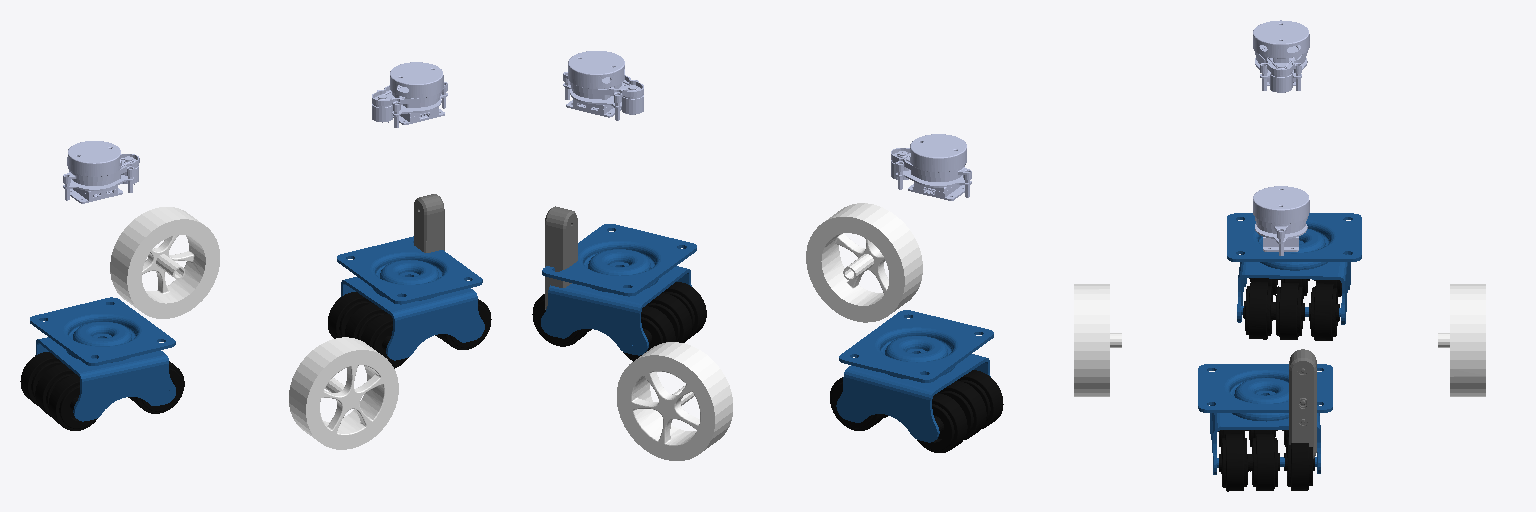
URDF robot description (issac_seven):
<?xml version="1.0" encoding="utf-8"?>
<!-- This URDF was automatically created by SolidWorks to URDF Exporter! Originally created by Stephen Brawner (brawner@gmail.com) 
     Commit Version: 1.6.0-4-g7f85cfe  Build Version: 1.6.7995.38578
     For more information, please see http://wiki.ros.org/sw_urdf_exporter -->
<robot
  name="issac_seven">

  <link name="base_footprint_link"/>

  <joint name="base_footprint_joint" type="fixed">
  <parent link="base_footprint_link"/>
  <child link="base_link"/>
  <origin xyz="0 0 0.05" rpy="0 0 0"/>
  </joint>

  <link
    name="base_link">
    <inertial>
      <origin
        xyz="-0.0248479796881225 -0.0112943222529918 0.0362638786365603"
        rpy="0 0 0" />
      <mass
        value="16.0457708997092" />
      <inertia
        ixx="0.14021509634615"
        ixy="0.000535721336349477"
        ixz="-0.000805462177597089"
        iyy="0.199659229591452"
        iyz="9.84458791671503E-05"
        izz="0.319238171634791" />
    </inertial>
    <visual>
      <origin
        xyz="0 0 0"
        rpy="0 0 0" />
      <geometry>
        <mesh
          filename="package://bugger/meshes/visual/base_link.STL" />
      </geometry>
      <material
        name="">
        <color
          rgba="0.792156862745098 0.819607843137255 0.933333333333333 1" />
      </material>
    </visual>
    <collision>
      <origin
        xyz="0 0 0"
        rpy="0 0 0" />
      <geometry>
        <box size="0.45 0.35 0.12"/>
      </geometry>
    </collision>
  </link>
  <link
    name="left_wheel">
    <inertial>
      <origin
        xyz="-1.45521954928451E-05 0.000688108128103382 1.70906873010468E-05"
        rpy="0 0 0" />
      <mass
        value="0.266150143776577" />
      <inertia
        ixx="0.000363355045282095"
        ixy="4.8306260702547E-08"
        ixz="-6.22191042124078E-08"
        iyy="0.000659372293190558"
        iyz="-5.62012125467068E-08"
        izz="0.000363910990808926" />
    </inertial>
    <visual>
      <origin
        xyz="0 0 0"
        rpy="0 0 0" />
      <geometry>
        <mesh
          filename="package://bugger/meshes/visual/left_wheel.STL" />
      </geometry>
      <material
        name="">
        <color
          rgba="1 1 1 0.35" />
      </material>
    </visual>
    <collision>
      <origin
        xyz="0 0 0"
        rpy="0 0 0" />
      <geometry>
        <cylinder radius="0.06" length="0.03"/>
      </geometry>
    </collision>
  </link>
  <joint
    name="leftwheel"
    type="continuous">
    <origin
      xyz="-0.0022134 0.19925 -0.035"
      rpy="0 0 0" />
    <parent
      link="base_link" />
    <child
      link="left_wheel" />
    <axis
      xyz="0 1 0" />
  </joint>
  <link
    name="right_wheel">
    <inertial>
      <origin
        xyz="1.41832273394815E-05 -0.000688994267547649 -1.84245151813034E-05"
        rpy="0 0 0" />
      <mass
        value="0.26616914297798" />
      <inertia
        ixx="0.000363847207290197"
        ixy="4.2514951574031E-08"
        ixz="-1.8778456164125E-07"
        iyy="0.000659372293190558"
        iyz="-6.07004942926805E-08"
        izz="0.000363418828800825" />
    </inertial>
    <visual>
      <origin
        xyz="0 0 0"
        rpy="0 0 0" />
      <geometry>
        <mesh
          filename="package://bugger/meshes/visual/right_wheel.STL" />
      </geometry>
      <material
        name="">
        <color
          rgba="1 1 1 0.35" />
      </material>
    </visual>
    <collision>
      <origin
        xyz="0 0 0"
        rpy="0 0 0" />
      <geometry>
        <cylinder radius="0.06" length="0.03"/>
      </geometry>
    </collision>
  </link>
  <joint
    name="rightwheel"
    type="continuous">
    <origin
      xyz="-0.0022134 -0.19925 -0.035"
      rpy="0 0 0" />
    <parent
      link="base_link" />
    <child
      link="right_wheel" />
    <axis
      xyz="0 1 0" />
  </joint>
  <link
    name="front_castor">
    <inertial>
      <origin
        xyz="-1.47230971914158E-06 -1.31477673193103E-09 -0.0075492724826719"
        rpy="0 0 0" />
      <mass
        value="0.188433066543013" />
      <inertia
        ixx="0.000325365378783494"
        ixy="-1.03442588377839E-06"
        ixz="-7.8020030948336E-09"
        iyy="0.00019979281882914"
        iyz="1.24832253355552E-18"
        izz="0.000468525846318118" />
    </inertial>
    <visual>
      <origin
        xyz="0 0 0"
        rpy="0 0 0" />
      <geometry>
        <mesh
          filename="package://bugger/meshes/visual/front_castor.STL" />
      </geometry>
      <material
        name="">
        <color
          rgba="0.168627450980392 0.4 0.619607843137255 1" />
      </material>
    </visual>
    <collision>
      <origin
        xyz="0 0 0"
        rpy="0 0 0" />
      <geometry>
        <mesh
          filename="package://bugger/meshes/visual/front_castor.STL" />
      </geometry>
    </collision>
  </link>
  <joint
    name="frontcastor"
    type="continuous">
    <origin
      xyz="0.18875 -0.01515 -0.0171"
      rpy="0 0 0.029377" />
    <parent
      link="base_link" />
    <child
      link="front_castor" />
    <axis
      xyz="0 0 -1" />
  </joint>
  <link
    name="ff_castor">
    <inertial>
      <origin
        xyz="-2.01924639933182E-05 -0.000750000002212592 -0.00332627702110022"
        rpy="0 0 0" />
      <mass
        value="0.175593255248327" />
      <inertia
        ixx="5.22328303456477E-05"
        ixy="1.02702744854584E-20"
        ixz="1.34069473916505E-21"
        iyy="8.67725285268534E-05"
        iyz="1.56323920872947E-21"
        izz="5.22328303456477E-05" />
    </inertial>
    <visual>
      <origin
        xyz="0 0 0"
        rpy="0 0 0" />
      <geometry>
        <mesh
          filename="package://bugger/meshes/visual/ff_castor.STL" />
      </geometry>
      <material
        name="">
        <color
          rgba="0.0941176470588235 0.0941176470588235 0.0941176470588235 1" />
      </material>
    </visual>
    <collision>
      <origin
        xyz="0 0 0"
        rpy="0 0 0" />
      <geometry>
        <mesh
          filename="package://bugger/meshes/visual/ff_castor.STL" />
      </geometry>
    </collision>
  </link>
  <joint
    name="ffcastor"
    type="continuous">
    <origin
      xyz="0.05037 0 -0.044174"
      rpy="0 0 0" />
    <parent
      link="front_castor" />
    <child
      link="ff_castor" />
    <axis
      xyz="0 1 0" />
  </joint>
  <link
    name="fr_castor">
    <inertial>
      <origin
        xyz="-0.00319356415575078 -0.000716666666666921 -0.000930416326103467"
        rpy="0 0 0" />
      <mass
        value="0.175593255248328" />
      <inertia
        ixx="5.22328303456477E-05"
        ixy="3.3881317890172E-21"
        ixz="-2.97557288424969E-22"
        iyy="8.67725285268534E-05"
        iyz="5.64562600535183E-21"
        izz="5.22328303456477E-05" />
    </inertial>
    <visual>
      <origin
        xyz="0 0 0"
        rpy="0 0 0" />
      <geometry>
        <mesh
          filename="package://bugger/meshes/visual/fr_castor.STL" />
      </geometry>
      <material
        name="">
        <color
          rgba="0.0941176470588235 0.0941176470588235 0.0941176470588235 1" />
      </material>
    </visual>
    <collision>
      <origin
        xyz="0 0 0"
        rpy="0 0 0" />
      <geometry>
        <mesh
          filename="package://bugger/meshes/visual/fr_castor.STL" />
      </geometry>
    </collision>
  </link>
  <joint
    name="frcastor"
    type="continuous">
    <origin
      xyz="-0.047156 0 -0.04657"
      rpy="0 0 0" />
    <parent
      link="front_castor" />
    <child
      link="fr_castor" />
    <axis
      xyz="0 1 0" />
  </joint>
  <link
    name="rear_castor">
    <inertial>
      <origin
        xyz="-1.49030058516075E-06 -1.26075393458436E-08 -0.00754927248267212"
        rpy="0 0 0" />
      <mass
        value="0.188433066543014" />
      <inertia
        ixx="0.000325289007444755"
        ixy="1.93657213819524E-06"
        ixz="-7.80200309514167E-09"
        iyy="0.000199869190167881"
        iyz="1.24535511828005E-18"
        izz="0.00046852584631812" />
    </inertial>
    <visual>
      <origin
        xyz="0 0 0"
        rpy="0 0 0" />
      <geometry>
        <mesh
          filename="package://bugger/meshes/visual/rear_castor.STL" />
      </geometry>
      <material
        name="">
        <color
          rgba="0.168627450980392 0.4 0.619607843137255 1" />
      </material>
    </visual>
    <collision>
      <origin
        xyz="0 0 0"
        rpy="0 0 0" />
      <geometry>
        <mesh
          filename="package://bugger/meshes/visual/rear_castor.STL" />
      </geometry>
    </collision>
  </link>
  <joint
    name="rearcastor"
    type="continuous">
    <origin
      xyz="-0.18918 0.01515 -0.0171"
      rpy="0 0 -0.055077" />
    <parent
      link="base_link" />
    <child
      link="rear_castor" />
    <axis
      xyz="0 0 -1" />
  </joint>
  <link
    name="rf_castor">
    <inertial>
      <origin
        xyz="2.01924640019779E-05 -0.000749999999994144 0.00332627702110044"
        rpy="0 0 0" />
      <mass
        value="0.175593255248329" />
      <inertia
        ixx="5.22328303456482E-05"
        ixy="-1.8422966602781E-20"
        ixz="1.2901995018405E-21"
        iyy="8.67725285268541E-05"
        iyz="5.06564454554672E-21"
        izz="5.22328303456482E-05" />
    </inertial>
    <visual>
      <origin
        xyz="0 0 0"
        rpy="0 0 0" />
      <geometry>
        <mesh
          filename="package://bugger/meshes/visual/rf_castor.STL" />
      </geometry>
      <material
        name="">
        <color
          rgba="0.0941176470588235 0.0941176470588235 0.0941176470588235 1" />
      </material>
    </visual>
    <collision>
      <origin
        xyz="0 0 0"
        rpy="0 0 0" />
      <geometry>
        <mesh
          filename="package://bugger/meshes/visual/rf_castor.STL" />
      </geometry>
    </collision>
  </link>
  <joint
    name="rfcastor"
    type="continuous">
    <origin
      xyz="0.05033 0 -0.050826"
      rpy="0 0 0" />
    <parent
      link="rear_castor" />
    <child
      link="rf_castor" />
    <axis
      xyz="0 1 0" />
  </joint>
  <link
    name="rr_castor">
    <inertial>
      <origin
        xyz="-0.0031935641557379 -0.000716666666662147 -0.0009304163261038"
        rpy="0 0 0" />
      <mass
        value="0.175593255248329" />
      <inertia
        ixx="5.22328303456481E-05"
        ixy="-9.52912065661088E-21"
        ixz="-2.70252236776506E-21"
        iyy="8.6772528526854E-05"
        iyz="3.23880089143769E-21"
        izz="5.22328303456481E-05" />
    </inertial>
    <visual>
      <origin
        xyz="0 0 0"
        rpy="0 0 0" />
      <geometry>
        <mesh
          filename="package://bugger/meshes/visual/rr_castor.STL" />
      </geometry>
      <material
        name="">
        <color
          rgba="0.0941176470588235 0.0941176470588235 0.0941176470588235 1" />
      </material>
    </visual>
    <collision>
      <origin
        xyz="0 0 0"
        rpy="0 0 0" />
      <geometry>
        <mesh
          filename="package://bugger/meshes/visual/rr_castor.STL" />
      </geometry>
    </collision>
  </link>
  <joint
    name="rrcastor"
    type="continuous">
    <origin
      xyz="-0.047156 0 -0.04657"
      rpy="0 0 0" />
    <parent
      link="rear_castor" />
    <child
      link="rr_castor" />
    <axis
      xyz="0 1 0" />
  </joint>
  <link
    name="depth_camera">
    <inertial>
      <origin
        xyz="0.236482474503189 0.000439433671189371 0.0243999681342368"
        rpy="0 0 0" />
      <mass
        value="0.110215155258526" />
      <inertia
        ixx="0.000135226643892952"
        ixy="-6.05516681323578E-09"
        ixz="-1.16922717897847E-08"
        iyy="1.26404057853269E-05"
        iyz="-4.4302143023925E-12"
        izz="0.000133333992195612" />
    </inertial>
    <visual>
      <origin
        xyz="0 0 0"
        rpy="0 0 0" />
      <geometry>
        <mesh
          filename="package://bugger/meshes/visual/depth_camera.STL" />
      </geometry>
      <material
        name="">
        <color
          rgba="0.498039215686275 0.498039215686275 0.498039215686275 1" />
      </material>
    </visual>
    <collision>
      <origin
        xyz="0 0 0"
        rpy="0 0 0" />
      <geometry>
        <mesh
          filename="package://bugger/meshes/visual/depth_camera.STL" />
      </geometry>
    </collision>
  </link>
  <joint
    name="dcamera"
    type="fixed">
    <origin
      xyz="0 0 0"
      rpy="-1.5708 0 0" />
    <parent
      link="base_link" />
    <child
      link="depth_camera" />
    <axis
      xyz="0 0 0" />
  </joint>
  <link
    name="front_lidar">
    <inertial>
      <origin
        xyz="0.198910140885991 0.00123094971141513 0.198753746521451"
        rpy="0 0 0" />
      <mass
        value="0.0643280800400477" />
      <inertia
        ixx="1.20633668132692E-05"
        ixy="1.77128240148071E-08"
        ixz="-2.27122935436015E-06"
        iyy="2.8634339781218E-05"
        iyz="7.5586989060526E-09"
        izz="3.74139907491419E-05" />
    </inertial>
    <visual>
      <origin
        xyz="0 0 0"
        rpy="0 0 0" />
      <geometry>
        <mesh
          filename="package://bugger/meshes/visual/front_lidar.STL" />
      </geometry>
      <material
        name="">
        <color
          rgba="0.792156862745098 0.819607843137255 0.933333333333333 1" />
      </material>
    </visual>
    <collision>
      <origin
        xyz="0 0 0"
        rpy="0 0 0" />
      <geometry>
        <cylinder radius="0.03" length="0.05"/>
      </geometry>
    </collision>
  </link>
  <joint
    name="frontlidar"
    type="fixed">
    <origin
      xyz="0 0 0"
      rpy="0 0 0" />
    <parent
      link="base_link" />
    <child
      link="front_lidar" />
    <axis
      xyz="0 0 0" />
  </joint>
  <link
    name="rear_lidar">
    <inertial>
      <origin
        xyz="-0.199336846345099 0.00116905028860437 0.198753746521441"
        rpy="0 0 0" />
      <mass
        value="0.0643280800400428" />
      <inertia
        ixx="1.20633668132683E-05"
        ixy="1.77128240135529E-08"
        ixz="2.27122935436009E-06"
        iyy="2.86343397812147E-05"
        iyz="-7.55869890562831E-09"
        izz="3.74139907491377E-05" />
    </inertial>
    <visual>
      <origin
        xyz="0 0 0"
        rpy="0 0 0" />
      <geometry>
        <mesh
          filename="package://bugger/meshes/visual/rear_lidar.STL" />
      </geometry>
      <material
        name="">
        <color
          rgba="0.792156862745098 0.819607843137255 0.933333333333333 1" />
      </material>
    </visual>
    <collision>
      <origin
        xyz="0 0 0"
        rpy="0 0 0" />
      <geometry>
        <mesh
          filename="package://bugger/meshes/visual/rear_lidar.STL" />
      </geometry>
    </collision>
  </link>
  <joint
    name="rearlidar"
    type="fixed">
    <origin
      xyz="0 0 0"
      rpy="0 0 0" />
    <parent
      link="base_link" />
    <child
      link="rear_lidar" />
    <axis
      xyz="0 0 0" />
  </joint>

  <gazebo reference="depth_camera">
    <sensor name="depth_camera" type="rgbd_camera">
      <always_on>true</always_on>
      <visualize>true</visualize>
      <update_rate>15</update_rate>
      <topic>camera</topic>
      <gz_frame_id>depth_camera</gz_frame_id>
      <camera name="depth_camera">
        <horizontal_fov>1.5708</horizontal_fov>
        <image>
          <width>1366</width>
          <height>768</height>
          <format>R8G8B8</format>
        </image>
        <clip>
          <near>1.0</near>
          <far>10.0</far>
        </clip>
        <noise>
          <type>gaussian</type>
          <mean>0.0</mean>
          <stddev>0.007</stddev>
        </noise>
      </camera>
    </sensor>
  </gazebo>

  <gazebo>
    <plugin
      filename="gz-sim-diff-drive-system"
      name="gz::sim::systems::DiffDrive">
      <left_joint>leftwheel</left_joint>
      <right_joint>rightwheel</right_joint>
      <wheel_separation>0.39</wheel_separation>
      <wheel_radius>0.06</wheel_radius>
      <odom_publish_frequency>30</odom_publish_frequency>
      <topic>cmd_vel</topic>
      <odom_topic>odom</odom_topic>
      <tf_topic>tf</tf_topic>
      <frame_id>odom</frame_id>
      <child_frame_id>base_link</child_frame_id>
    </plugin>
  </gazebo>

  <gazebo reference="front_lidar">
    <sensor name="front_lidar" type="gpu_lidar">
      <always_on>true</always_on>
      <visualize>true</visualize>
      <topic>scan</topic>
      <update_rate>10</update_rate>
      <frame_id>front_lidar</frame_id>
      <lidar>
        <scan>
          <horizontal>
            <samples>180</samples>
            <resolution>1.00000</resolution>
            <min_angle>-1.5708</min_angle>
            <max_angle>1.5708</max_angle>
          </horizontal>
        </scan>
        <range>
          <min>0.35</min>
          <max>12.0</max>
          <resolution>0.02</resolution>
        </range>
        <noise>
          <type>gaussian</type>
          <mean>0.0</mean>
          <stddev>0.01</stddev>
        </noise>
      </lidar>
      <plugin name="ros_lidar" filename="libgazebo_ros_ray_sensor.so">
        <ros>
          <remapping>~/out:=scan</remapping>
        </ros>
        <frame_name>front_lidar</frame_name>
      </plugin>


    </sensor>
  </gazebo>

  <gazebo reference="left_wheel">
    <collision>
      <surface>
        <friction>
          <ode>
            <mu>1.0</mu>
            <mu2>1.0</mu2>
            <fdir1>0 0 0</fdir1>
            <slip1>0.0</slip1>
            <slip2>0.0</slip2>
          </ode>
        </friction>
        <contact>
          <ode>
            <min_depth>0.001</min_depth>
            <kp>1e6</kp>
            <kd>100</kd>
          </ode>
        </contact>
      </surface>
    </collision>
  </gazebo>

  <gazebo reference="right_wheel">
    <collision>
      <surface>
        <friction>
          <ode>
            <mu>1.0</mu>
            <mu2>1.0</mu2>
            <fdir1>0 0 0</fdir1>
            <slip1>0.0</slip1>
            <slip2>0.0</slip2>
          </ode>
        </friction>
        <contact>
          <ode>
            <min_depth>0.001</min_depth>
            <kp>1e6</kp>
            <kd>100</kd>
          </ode>
        </contact>
      </surface>
    </collision>
  </gazebo>

  <gazebo reference="ff_castor">
    <collision>
      <surface>
        <friction>
          <ode><mu>0.0</mu><mu2>0.0</mu2></ode>
        </friction>
      </surface>
    </collision>
  </gazebo>

  <gazebo reference="fr_castor">
    <collision>
      <surface>
        <friction>
          <ode><mu>0.0</mu><mu2>0.0</mu2></ode>
        </friction>
      </surface>
    </collision>
  </gazebo>

  <gazebo reference="rf_castor">
    <collision>
      <surface>
        <friction>
          <ode><mu>0.0</mu><mu2>0.0</mu2></ode>
        </friction>
      </surface>
    </collision>
  </gazebo>

  <gazebo reference="rr_castor">
    <collision>
      <surface>
        <friction>
          <ode><mu>0.0</mu><mu2>0.0</mu2></ode>
        </friction>
      </surface>
    </collision>
  </gazebo>

</robot>

--- What the picture shows (computed from the rendered views, not written in the file) ---
The picture shows the robot from 3 angles, left to right: view 1: azimuth 30°, elevation 25°; view 2: azimuth 150°, elevation 25°; view 3: azimuth 270°, elevation 25°; orthographic projection.
Robot: issac_seven — 13 links, 12 joints (8 continuous, 4 fixed); root link base_footprint_link; default pose: all joints at 0.
Links seen in each view (by area): view 1: rear_castor, front_castor, left_wheel, right_wheel, front_lidar, rear_lidar, rr_castor, fr_castor, depth_camera, rf_castor, ff_castor; view 2: rear_castor, front_castor, right_wheel, left_wheel, front_lidar, rear_lidar, rr_castor, fr_castor, depth_camera, ff_castor, rf_castor; view 3: rear_castor, front_castor, rf_castor, ff_castor, left_wheel, right_wheel, rear_lidar, front_lidar, depth_camera, rr_castor.
Boxes of the visible links, bbox=[...] form: rear_castor: bbox=[30, 297, 175, 421]; front_castor: bbox=[337, 236, 484, 360]; left_wheel: bbox=[110, 207, 219, 318]; right_wheel: bbox=[289, 337, 398, 449]; front_lidar: bbox=[372, 62, 447, 127]; rear_lidar: bbox=[63, 141, 139, 203]; rr_castor: bbox=[20, 352, 97, 430]; fr_castor: bbox=[328, 292, 408, 368]; depth_camera: bbox=[414, 194, 444, 252]; rf_castor: bbox=[128, 361, 184, 413]; ff_castor: bbox=[435, 299, 491, 349]; rear_castor: bbox=[836, 310, 993, 442]; front_castor: bbox=[541, 224, 696, 355]; right_wheel: bbox=[806, 203, 922, 322]; left_wheel: bbox=[617, 342, 732, 460]; front_lidar: bbox=[563, 51, 643, 120]; rear_lidar: bbox=[891, 134, 971, 200]; rr_castor: bbox=[917, 370, 1003, 452]; fr_castor: bbox=[623, 282, 706, 361]; depth_camera: bbox=[545, 206, 577, 309]; ff_castor: bbox=[532, 294, 591, 346]; rf_castor: bbox=[830, 377, 887, 430]; rear_castor: bbox=[1227, 213, 1361, 324]; front_castor: bbox=[1198, 364, 1332, 474]; rf_castor: bbox=[1243, 282, 1339, 340]; ff_castor: bbox=[1219, 434, 1314, 491]; left_wheel: bbox=[1438, 284, 1485, 396]; right_wheel: bbox=[1074, 284, 1121, 396]; rear_lidar: bbox=[1253, 20, 1309, 92]; front_lidar: bbox=[1253, 186, 1309, 255]; depth_camera: bbox=[1289, 349, 1316, 458]; rr_castor: bbox=[1249, 278, 1341, 298].
Bounding box of the posed robot: 0.5429 × 0.4369 × 0.3247 m (x, y, z).
11 mesh visuals loaded from 12 distinct referenced files (11 binary STL); not drawn: 1 (reference not matched to a file when rendering).
